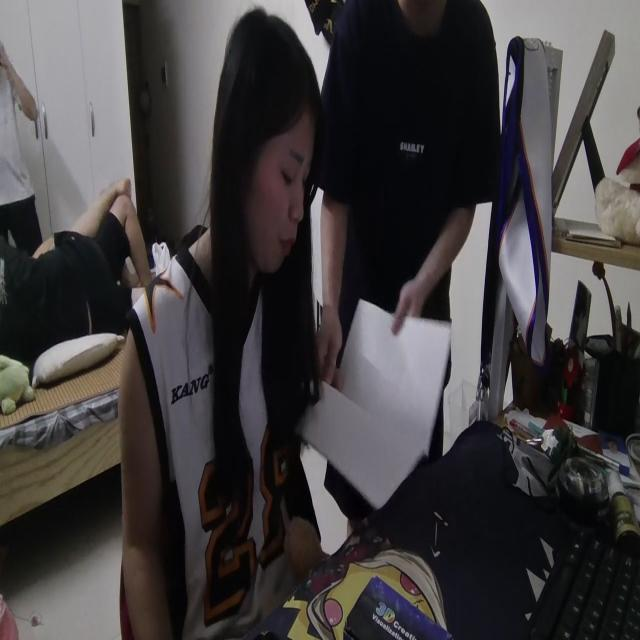book: (295, 289, 455, 508)
extra_person: (318, 0, 497, 492), (0, 186, 144, 354), (0, 36, 41, 250)
student: (118, 4, 326, 640)
